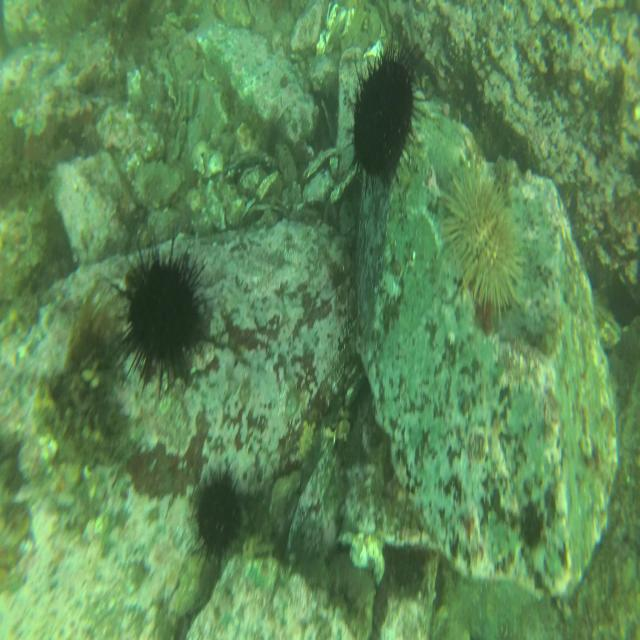echinus: (120, 246, 208, 388), (444, 168, 517, 314), (354, 50, 416, 185), (195, 471, 242, 559)
